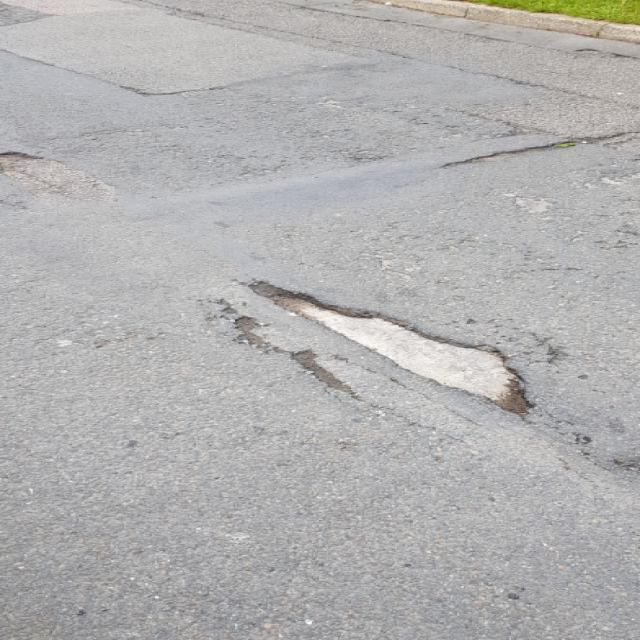Pothole: (239, 272, 546, 418)
